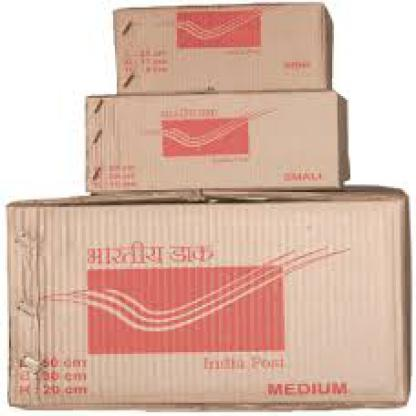paquete: (4, 186, 412, 414), (70, 79, 380, 200), (99, 2, 350, 102)
